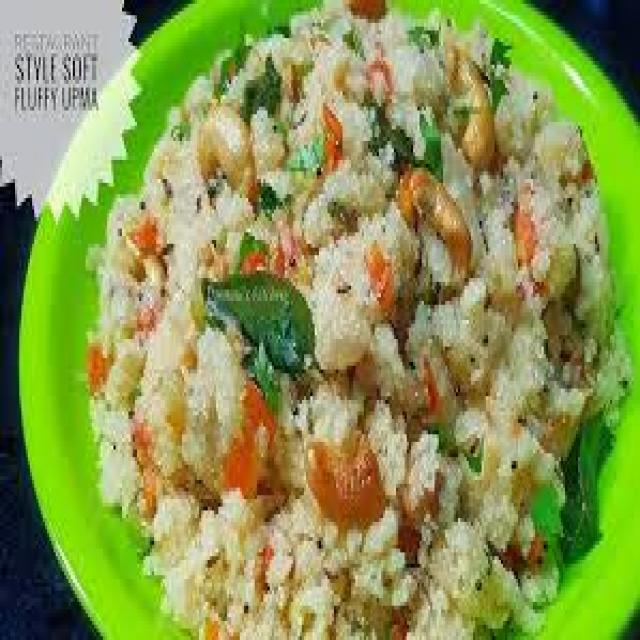UPMA: (79, 0, 634, 636)
